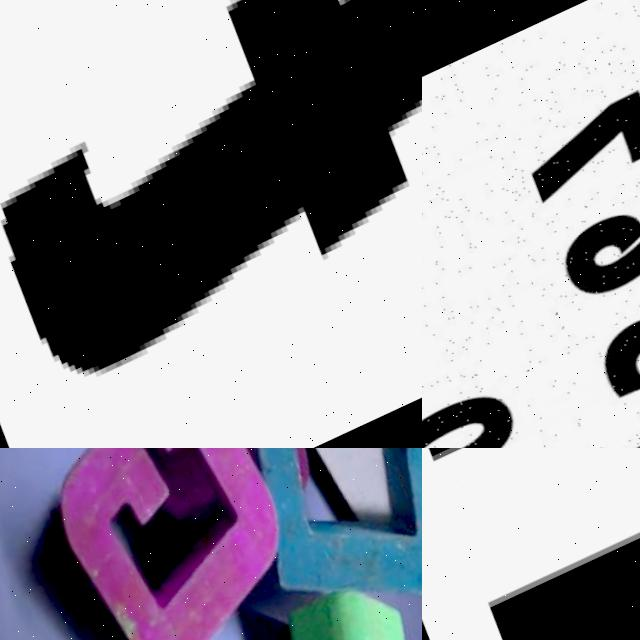0: (422, 370, 550, 448)
5: (576, 271, 640, 411)
6: (541, 171, 640, 314)
7: (499, 73, 640, 213)
D: (191, 448, 422, 630)
G: (0, 448, 345, 640)
N: (422, 448, 640, 640)
T: (0, 0, 422, 402)
